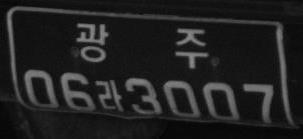0: (162, 79, 202, 118), (202, 81, 239, 122), (23, 68, 59, 109)
3: (124, 77, 162, 114)
6: (60, 71, 96, 112)
7: (242, 82, 275, 125)
광주_D: (76, 21, 208, 68)
라: (97, 78, 123, 112)
